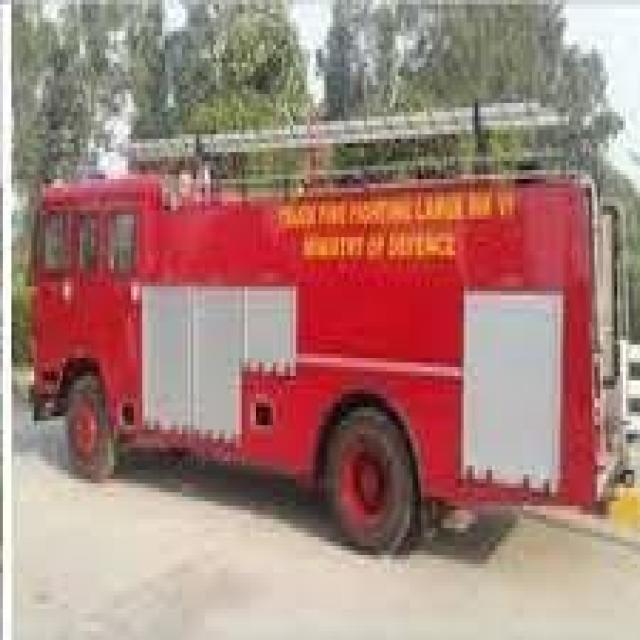Fire_brigade: (26, 94, 617, 559)
